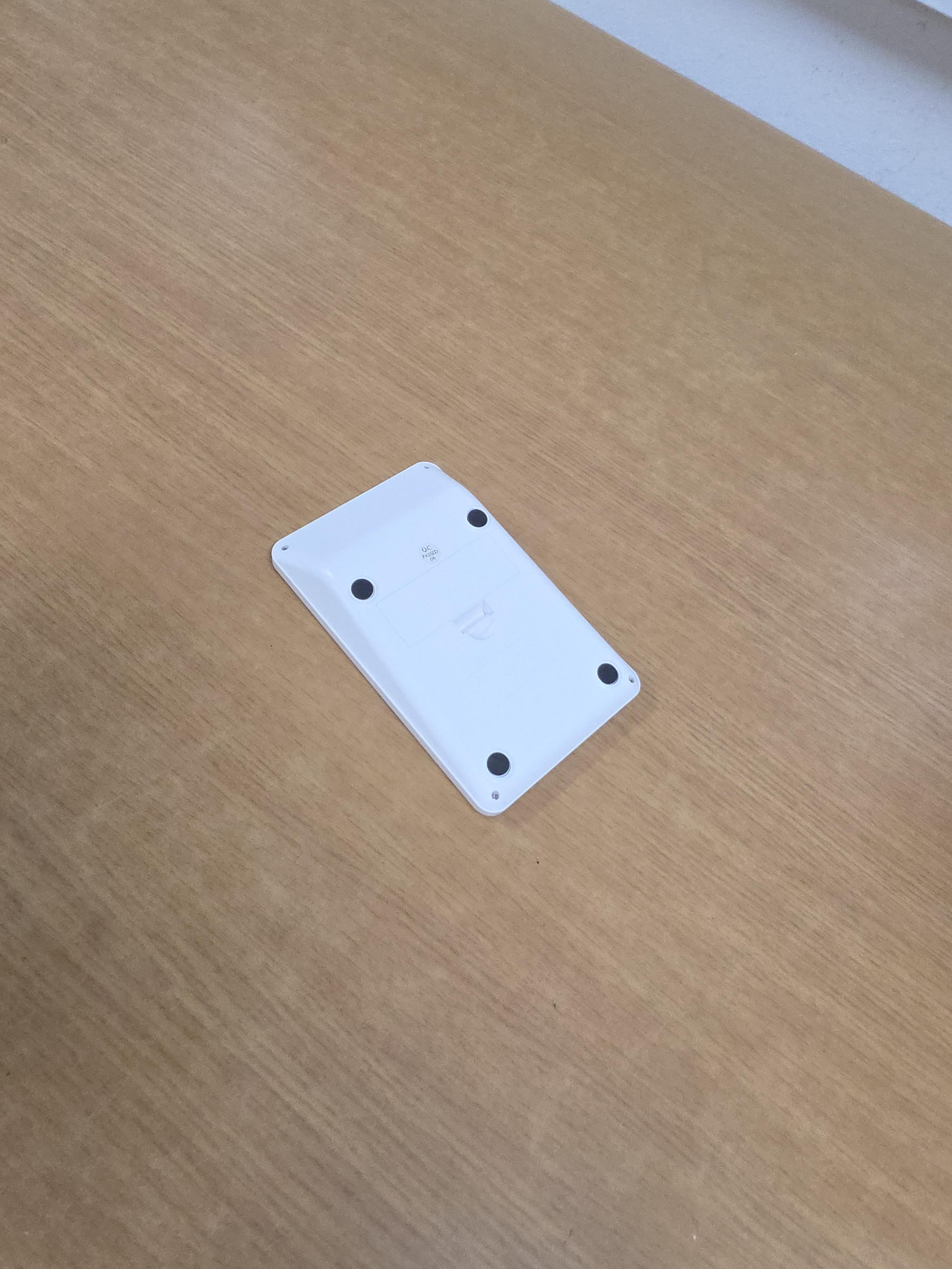calculator: (271, 461, 641, 817)
